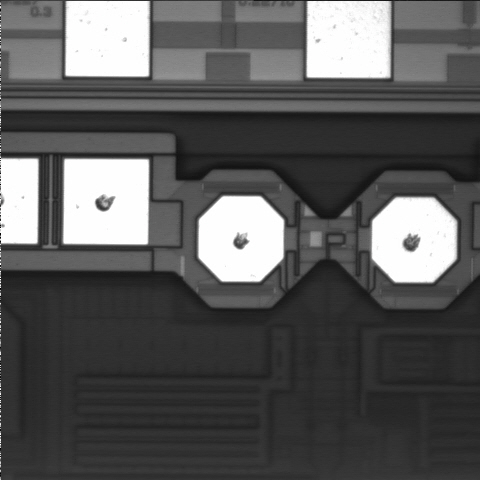pad: (63, 159, 149, 244), (199, 196, 284, 281), (372, 198, 456, 282)
